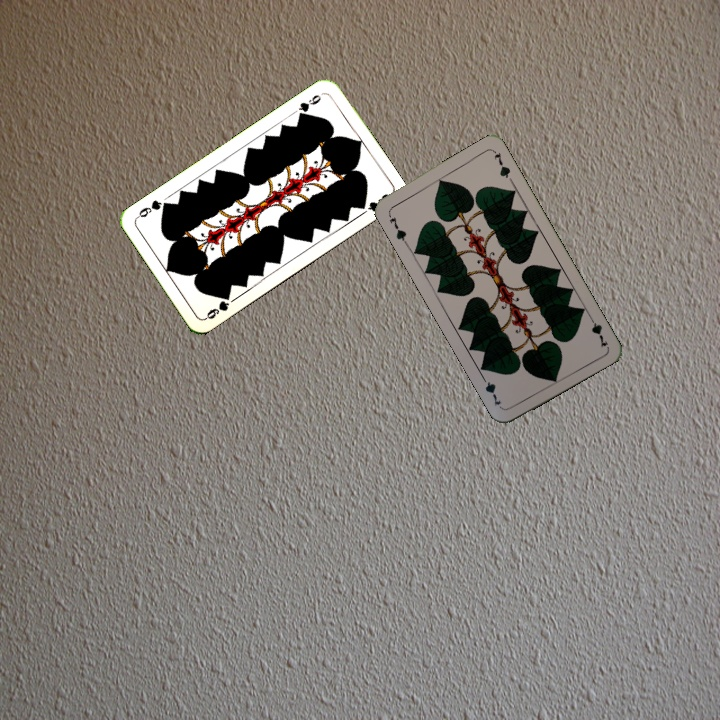G7: (585, 311, 610, 350), (384, 209, 409, 247)
G9: (201, 289, 233, 322), (294, 89, 326, 120)
